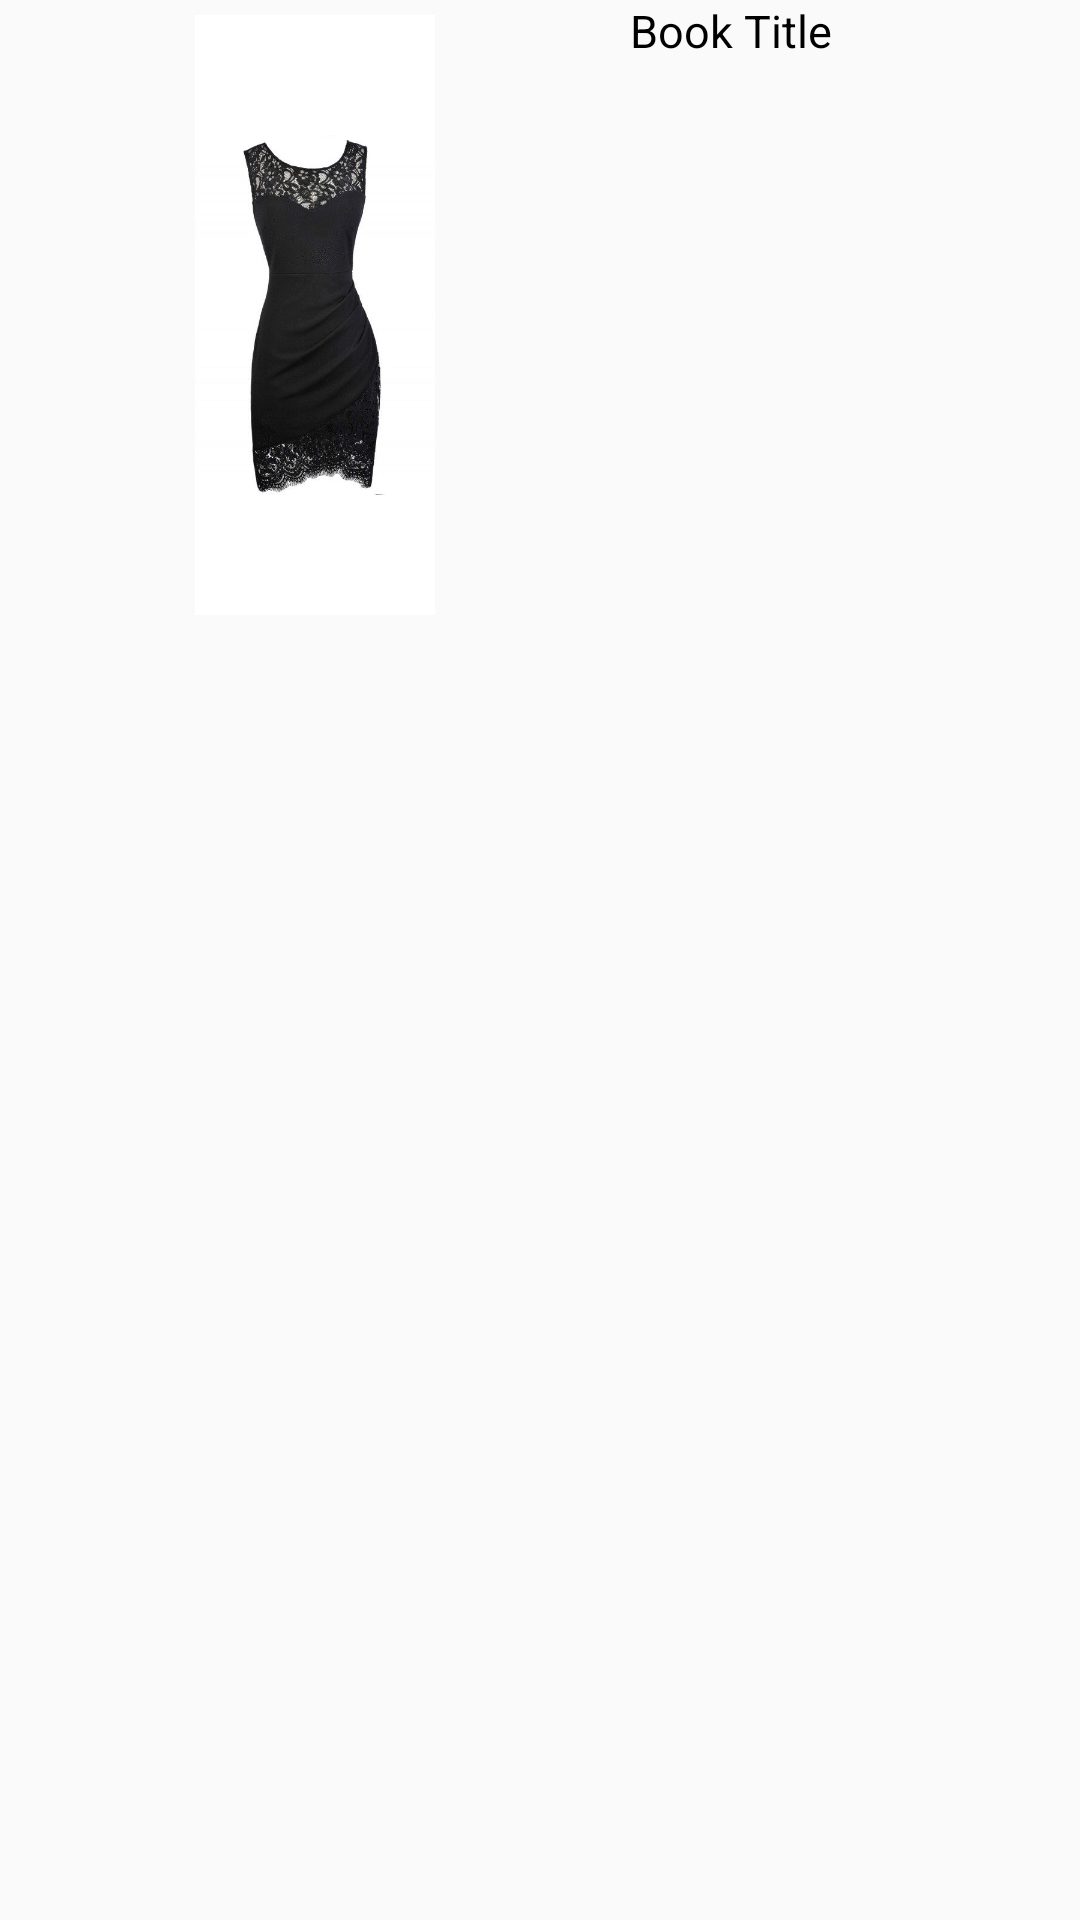

Screen size 1080x1920. Icon name, then its box in pixels as detection(x1, y1, x2, y2):
dresstwo: detection(243, 140, 383, 495)
